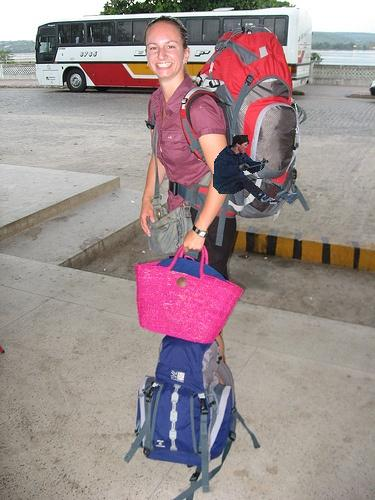tampered: (214, 136, 300, 204)
